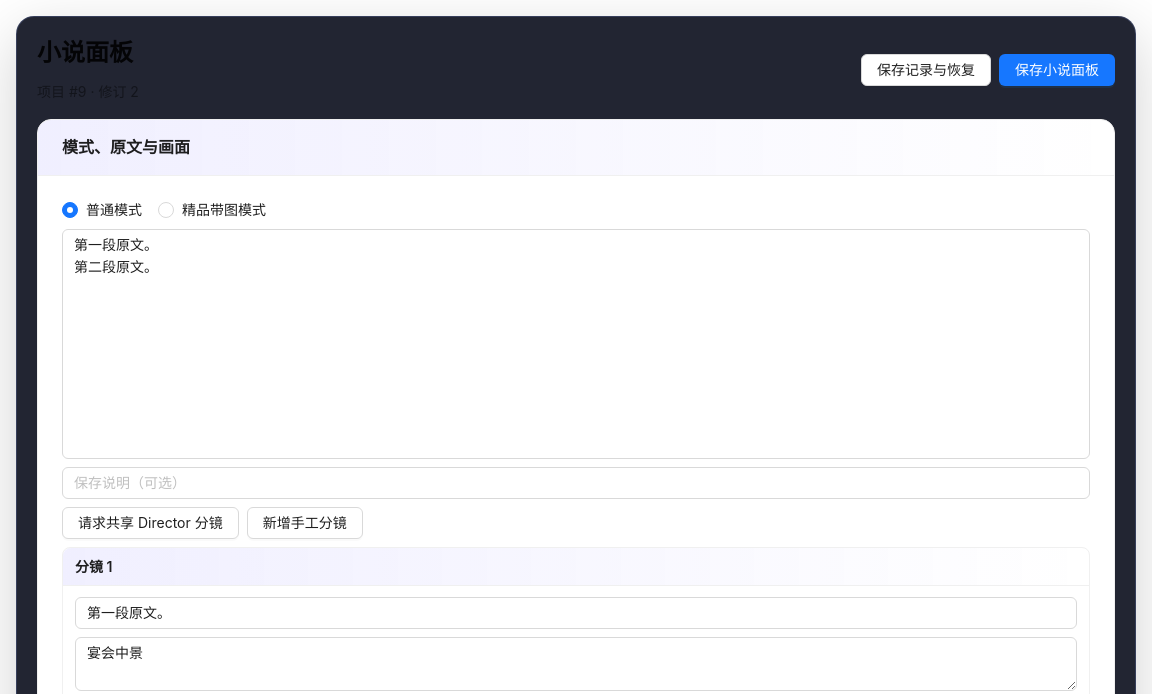
Test: NovelPanelWorkbench › reports a Go 403 on save without claiming a persisted workspace
The image size is (1152, 694).
Click the button "保存小说面板" at coordinates (1057, 70), box [999,54,1115,86]
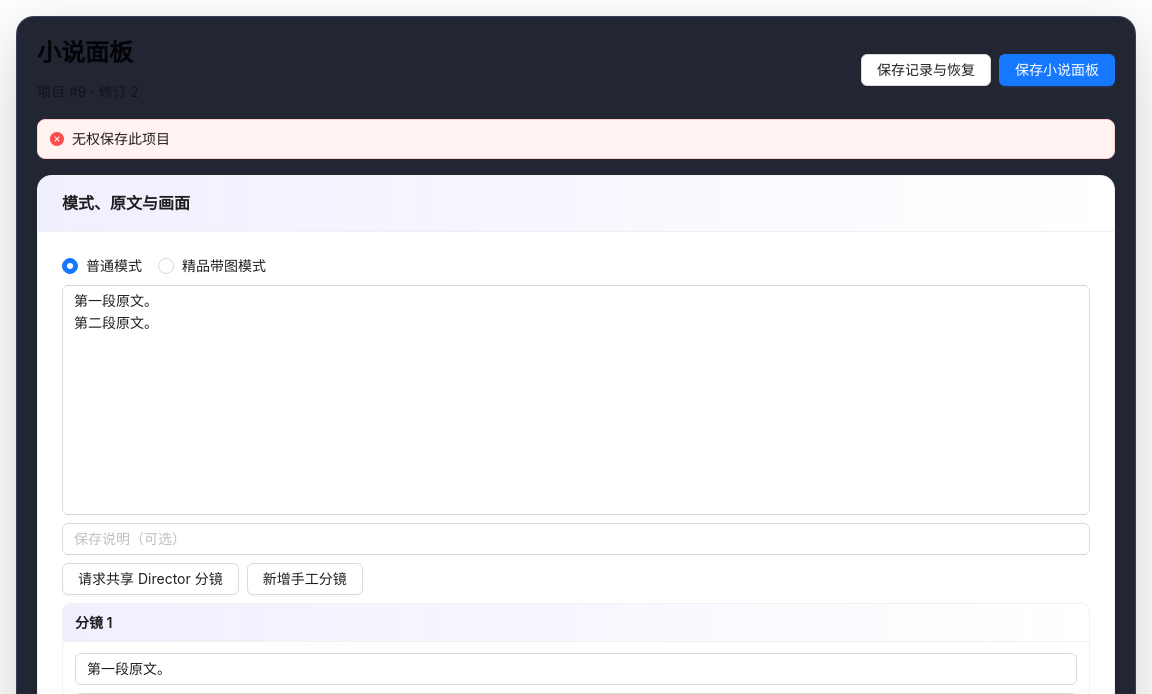
Expected: the text "无权保存此项目" is shown, [72,130,170,147]
